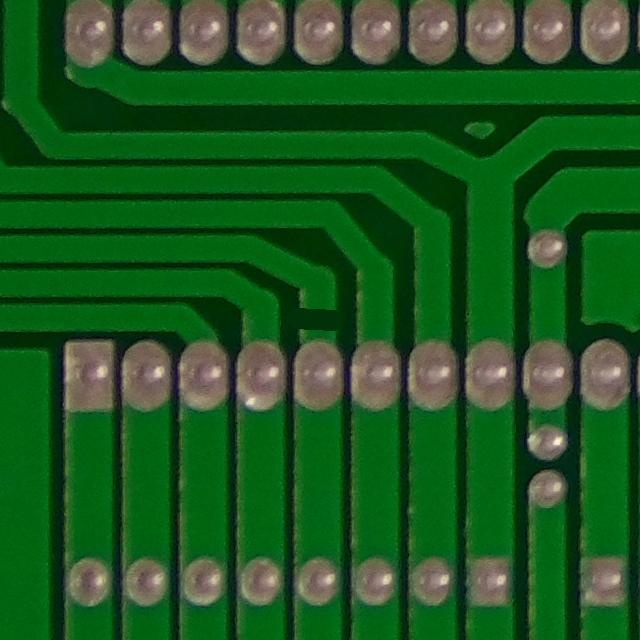open_circuit: (291, 298, 349, 341)
